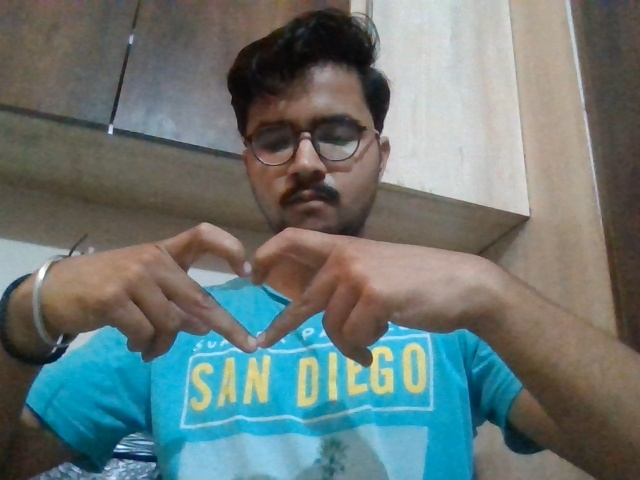iloveyou: (102, 220, 470, 393)
